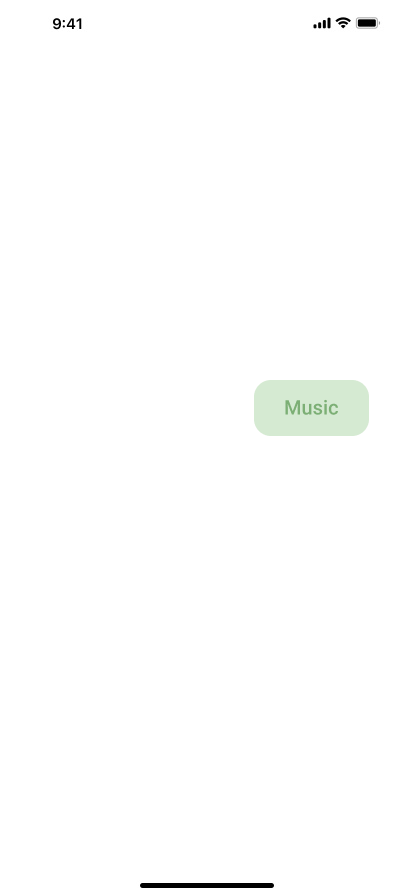Buttons: (254, 380, 377, 436)
Home Indicator: (0, 862, 414, 896)
Status Bar: (0, 0, 414, 44)
